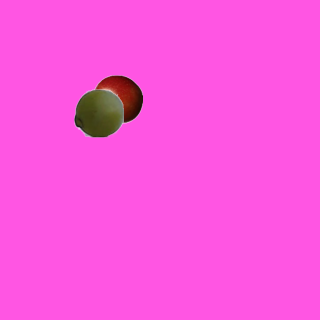Apple Braeburn: (92, 74, 142, 124)
Grape White 4: (73, 87, 123, 137)
